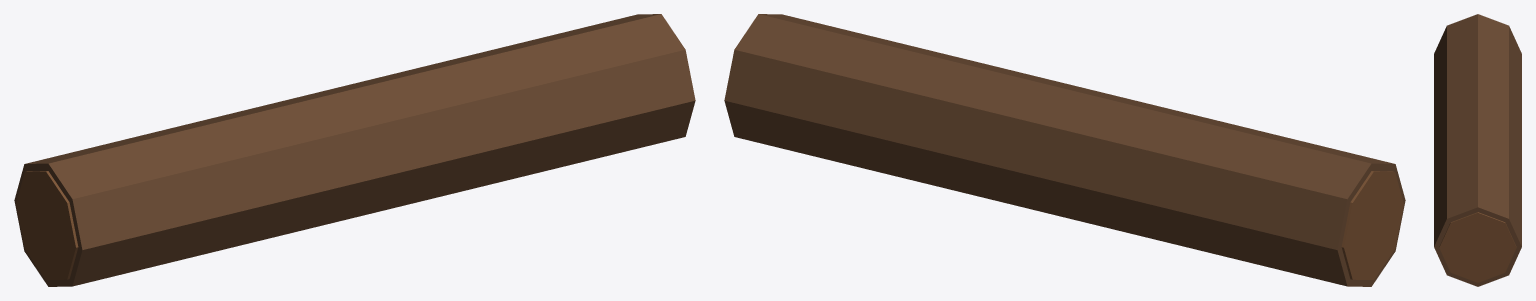
Rendered from log.glb.
3 views of the same model, side by side, from view 1: azimuth 30°, elevation 25°; view 2: azimuth 150°, elevation 25°; view 3: azimuth 270°, elevation 25° (orthographic). The views are drawn at different scales.
Parts seen in each view (by area): view 1: log_Body; view 2: log_Body; view 3: log_Body.
Part boxes in pixels (x1=…): log_Body: x1=14, y1=14, x2=695, y2=286; log_Body: x1=724, y1=14, x2=1405, y2=286; log_Body: x1=1434, y1=14, x2=1521, y2=286.
Size of the model in its own units: 2.62 by 0.5 by 0.5.
